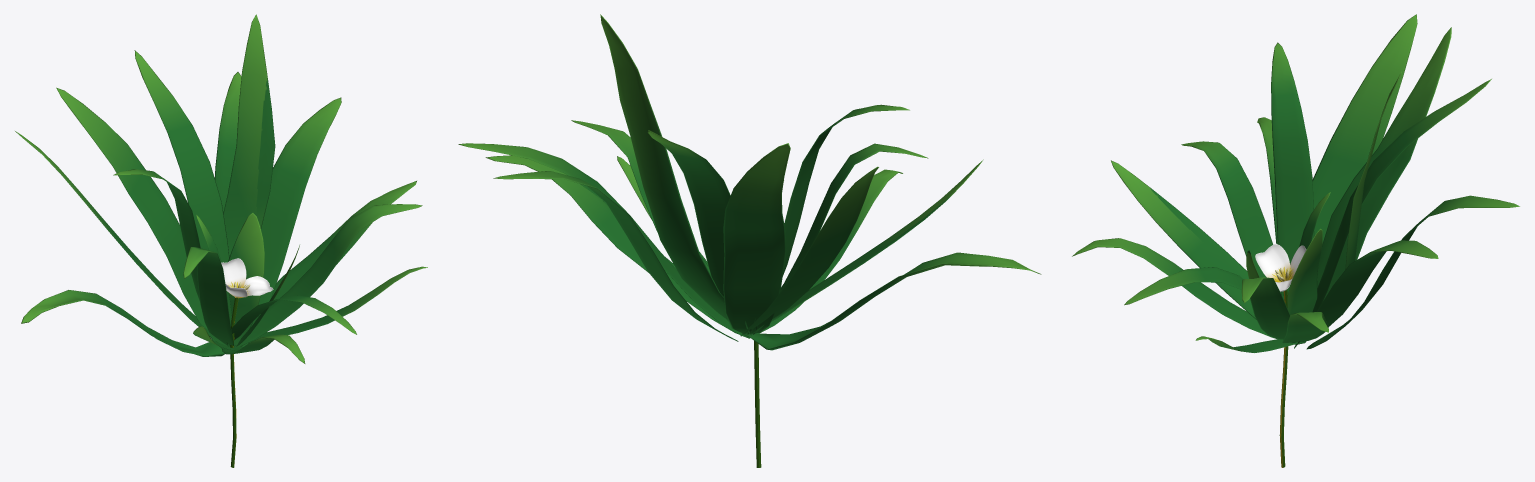
File: Stratiotes aloidesText.fbx
3 renders of one model, left to right at view 1: azimuth 30°, elevation 25°; view 2: azimuth 150°, elevation 25°; view 3: azimuth 270°, elevation 25°, orthographic. The views are drawn at different scales.
Parts seen in each view (by area): view 1: Leaf.071, Circle.005; view 2: Leaf.071; view 3: Leaf.071, Circle.005.
Boxes of the visible parts, box(x1,y1,x2,y2) form: Leaf.071: box(15, 14, 427, 467); Circle.005: box(221, 258, 273, 298); Leaf.071: box(458, 14, 1041, 467); Leaf.071: box(1072, 14, 1519, 467); Circle.005: box(1255, 244, 1306, 291).
Size of the model in its own units: 1809 by 1596 by 1482.
